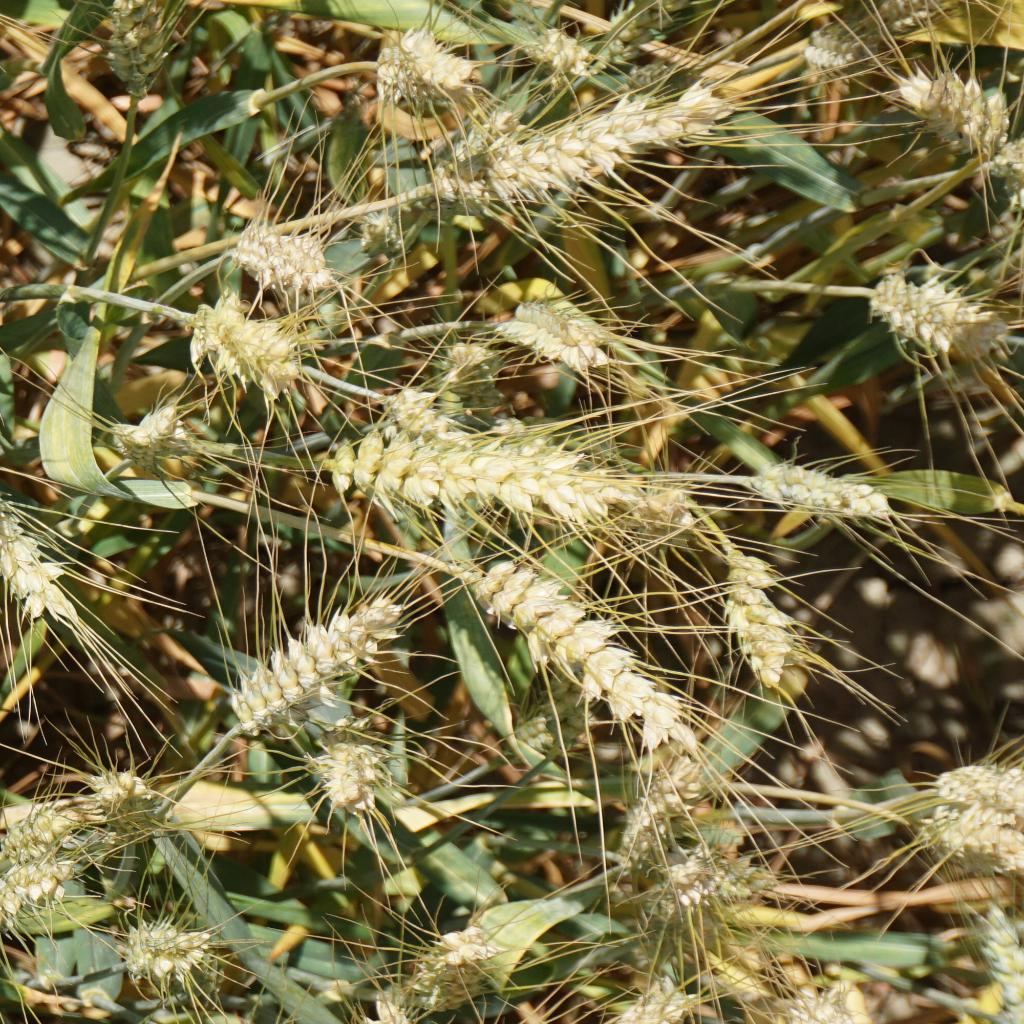0-0: (492, 560, 688, 729), (490, 119, 695, 219), (200, 597, 389, 702), (367, 442, 605, 524), (863, 261, 1015, 376), (378, 384, 577, 466), (0, 459, 82, 649), (728, 448, 884, 537), (632, 880, 773, 974), (707, 543, 797, 689), (883, 55, 1011, 147), (196, 300, 327, 387), (500, 290, 632, 375), (889, 800, 1024, 883), (368, 14, 473, 112), (79, 0, 175, 103), (908, 747, 1024, 826), (219, 214, 331, 294), (600, 777, 699, 859), (604, 473, 716, 544), (641, 839, 739, 920), (0, 846, 86, 934), (118, 914, 223, 981), (105, 413, 219, 469), (79, 764, 167, 835), (411, 924, 486, 1007), (305, 739, 393, 809), (426, 106, 517, 173), (516, 16, 603, 85), (596, 0, 689, 64), (425, 335, 506, 396), (592, 971, 685, 1024), (795, 24, 874, 78), (0, 793, 78, 846), (780, 976, 864, 1024), (418, 167, 489, 213), (359, 196, 409, 257), (882, 0, 952, 41), (364, 1001, 428, 1024)
